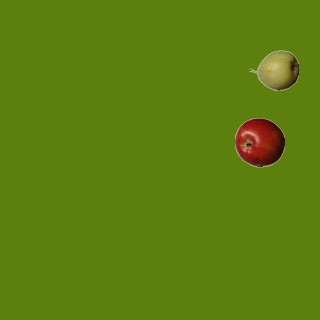Apple Braeburn: (234, 117, 284, 167)
Pear: (248, 45, 298, 95)
